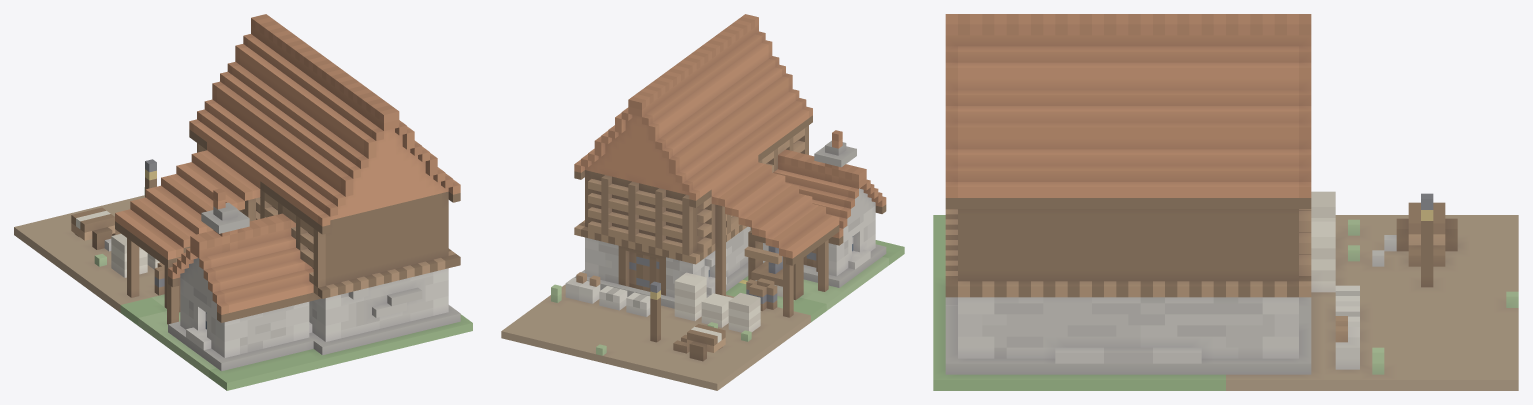
Rendered from paper_mill.glb.
The picture shows the model from 3 angles, left to right: view 1: azimuth 30°, elevation 25°; view 2: azimuth 150°, elevation 25°; view 3: azimuth 270°, elevation 25°; orthographic projection. The views are drawn at different scales.
Visible parts, largest first — view 1: paper_mill; view 2: paper_mill; view 3: paper_mill.
Boxes of the visible parts, <box> form: paper_mill: <box>14,14,472,390</box>; paper_mill: <box>501,14,904,390</box>; paper_mill: <box>933,14,1518,390</box>.
Size of the model in its own units: 4 by 3.62 by 6.
